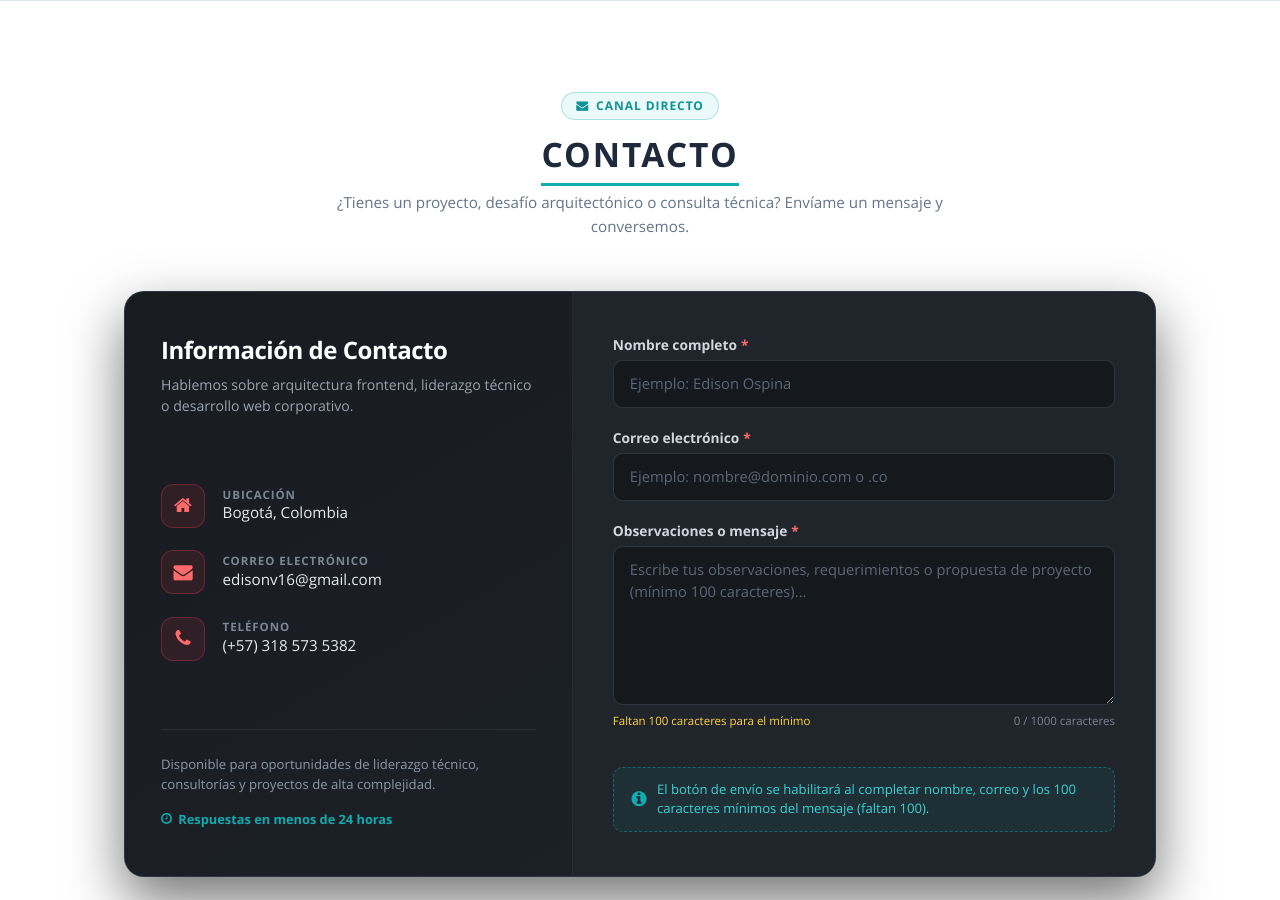
Test: Contact Component › displays warning when mensaje has less than 100 characters with remaining count
The width and height of the screenshot is (1280, 900).
Replace the text in the text box labelled "Observaciones o mensaje*" with "Mensaje corto de prueba." at (864, 626), box [613,546,1115,705]
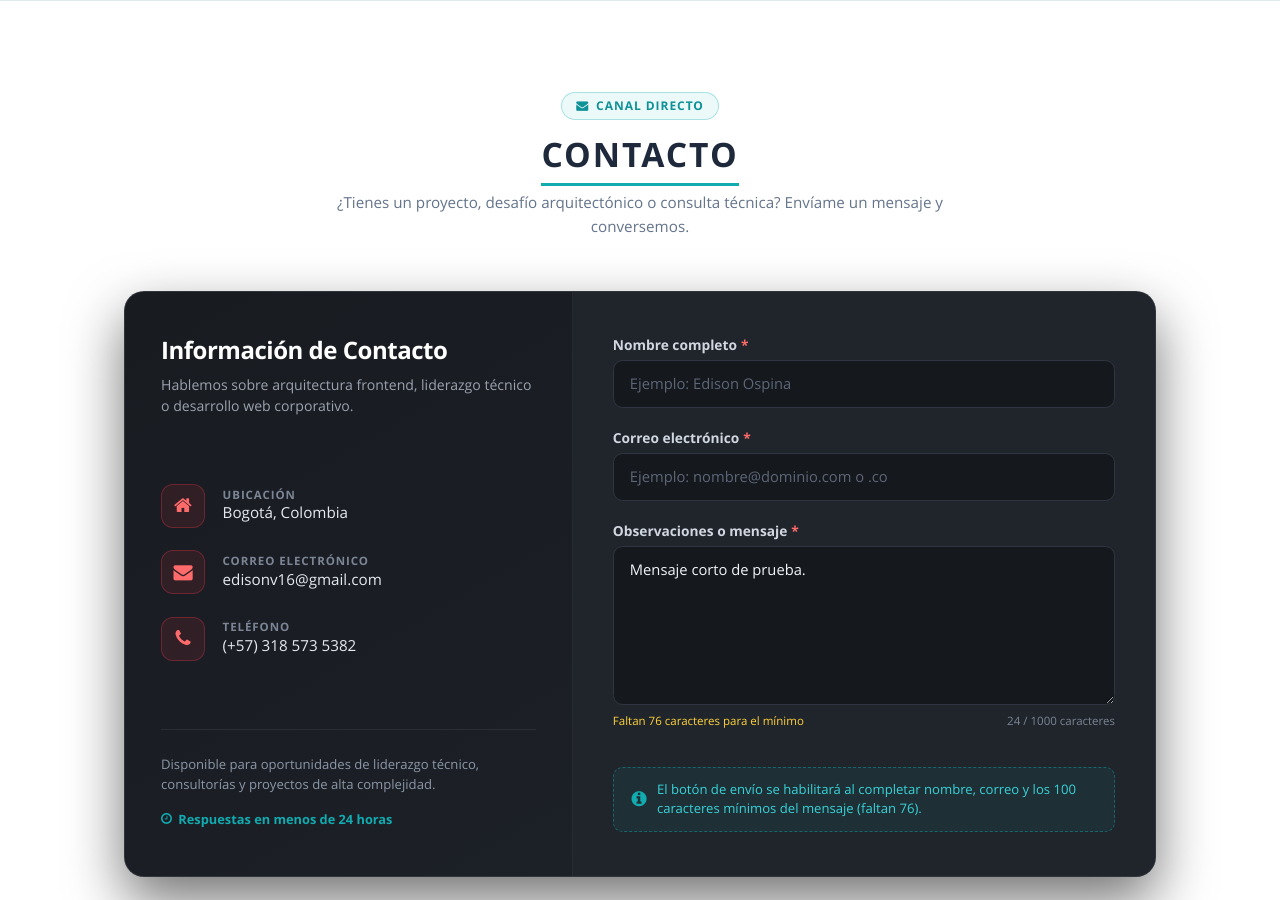
Leave the text box labelled "Observaciones o mensaje*", box [613,546,1115,705]
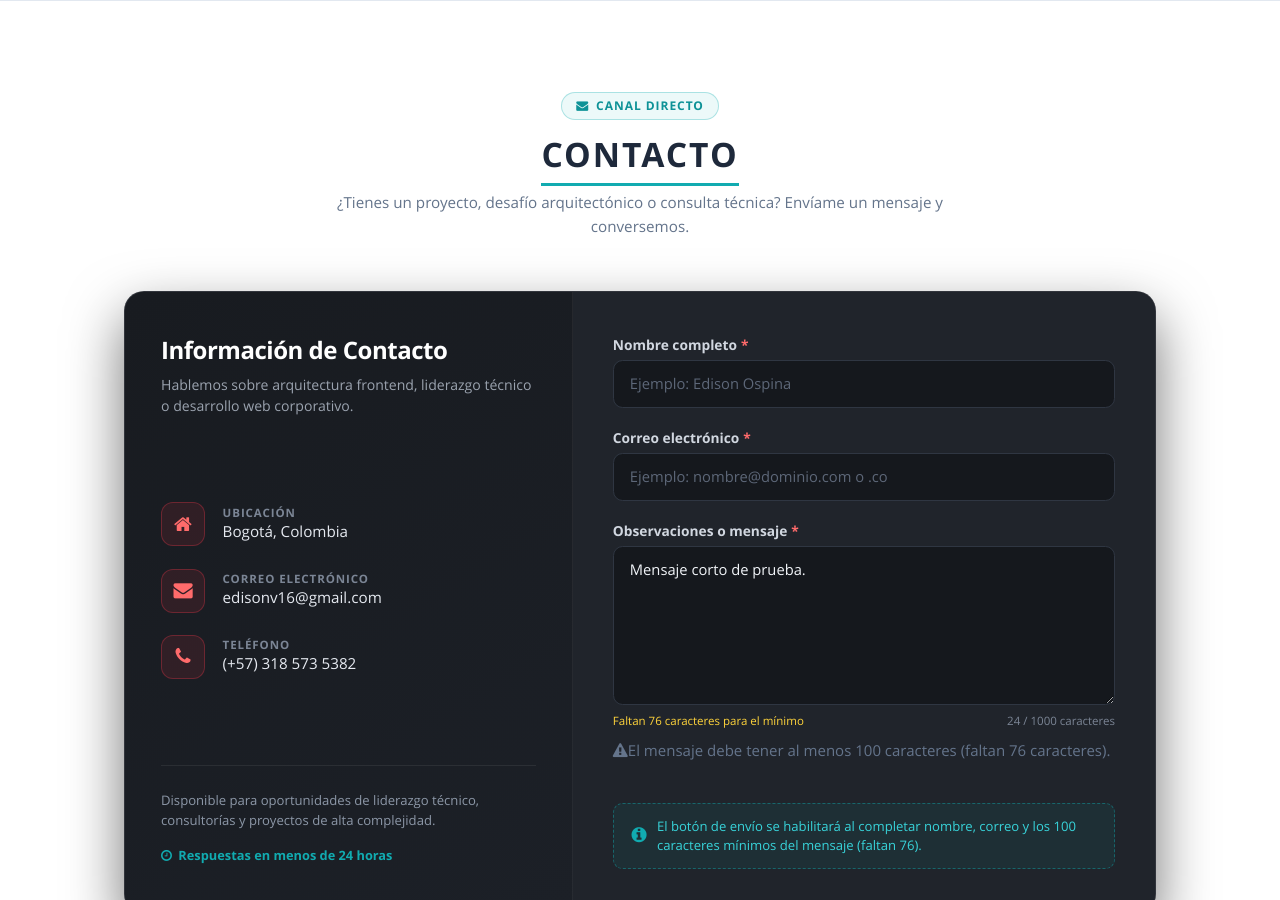
Now the text "El mensaje debe tener al menos 100 caracteres" is shown, box [628,740,1110,760]
